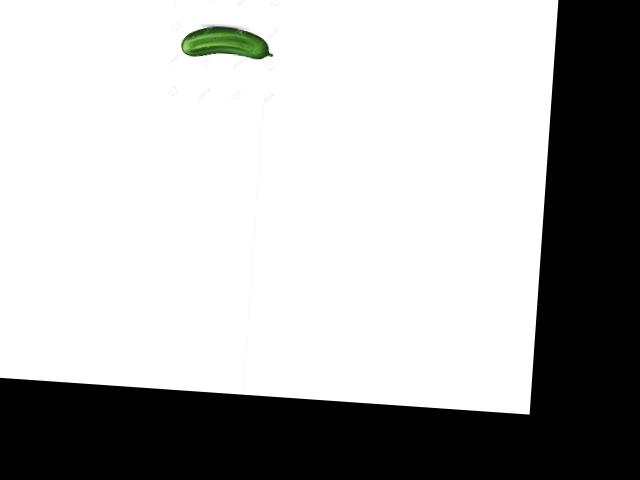cucumber: (180, 23, 274, 61)
